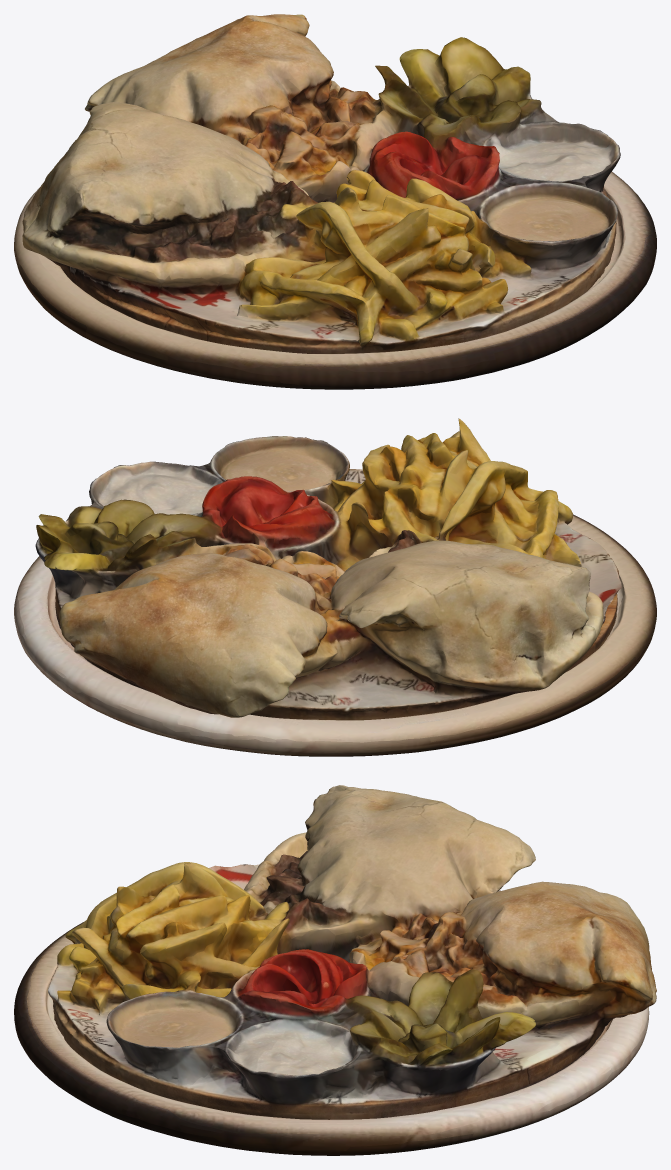
Rendered from mixed.shawerma.platter.glb.
3 views of the same model, one above another, from view 1: azimuth 30°, elevation 25°; view 2: azimuth 150°, elevation 25°; view 3: azimuth 270°, elevation 25° (orthographic).
Parts seen in each view (by area): view 1: /Root/Scenes/Scene/Object_74/Object_75/Submesh_0, /Root/Scenes/Scene/Object_74/Object_76/Object_77/Submesh_0; view 2: /Root/Scenes/Scene/Object_74/Object_75/Submesh_0, /Root/Scenes/Scene/Object_74/Object_76/Object_77/Submesh_0; view 3: /Root/Scenes/Scene/Object_74/Object_75/Submesh_0, /Root/Scenes/Scene/Object_74/Object_76/Object_77/Submesh_0.
Boxes of the visible parts, x1,y1,x2,y2 form: /Root/Scenes/Scene/Object_74/Object_75/Submesh_0: (22,14,620,353); /Root/Scenes/Scene/Object_74/Object_76/Object_77/Submesh_0: (14,171,656,389); /Root/Scenes/Scene/Object_74/Object_75/Submesh_0: (35,418,621,720); /Root/Scenes/Scene/Object_74/Object_76/Object_77/Submesh_0: (14,514,656,756); /Root/Scenes/Scene/Object_74/Object_75/Submesh_0: (48,785,656,1119); /Root/Scenes/Scene/Object_74/Object_76/Object_77/Submesh_0: (14,922,649,1155).
Size of the model in its own units: 0.3413 by 0.0806 by 0.3455.
2 materials, 2 textured.
